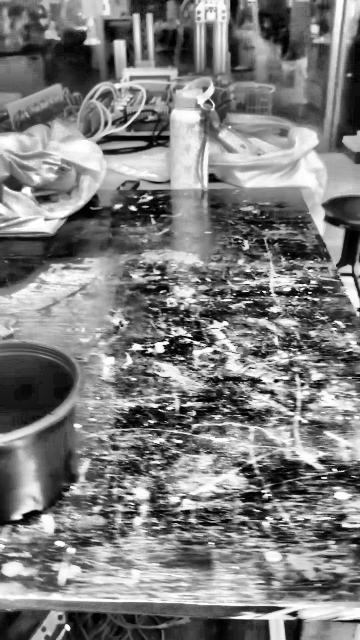pot: (1, 341, 80, 527)
